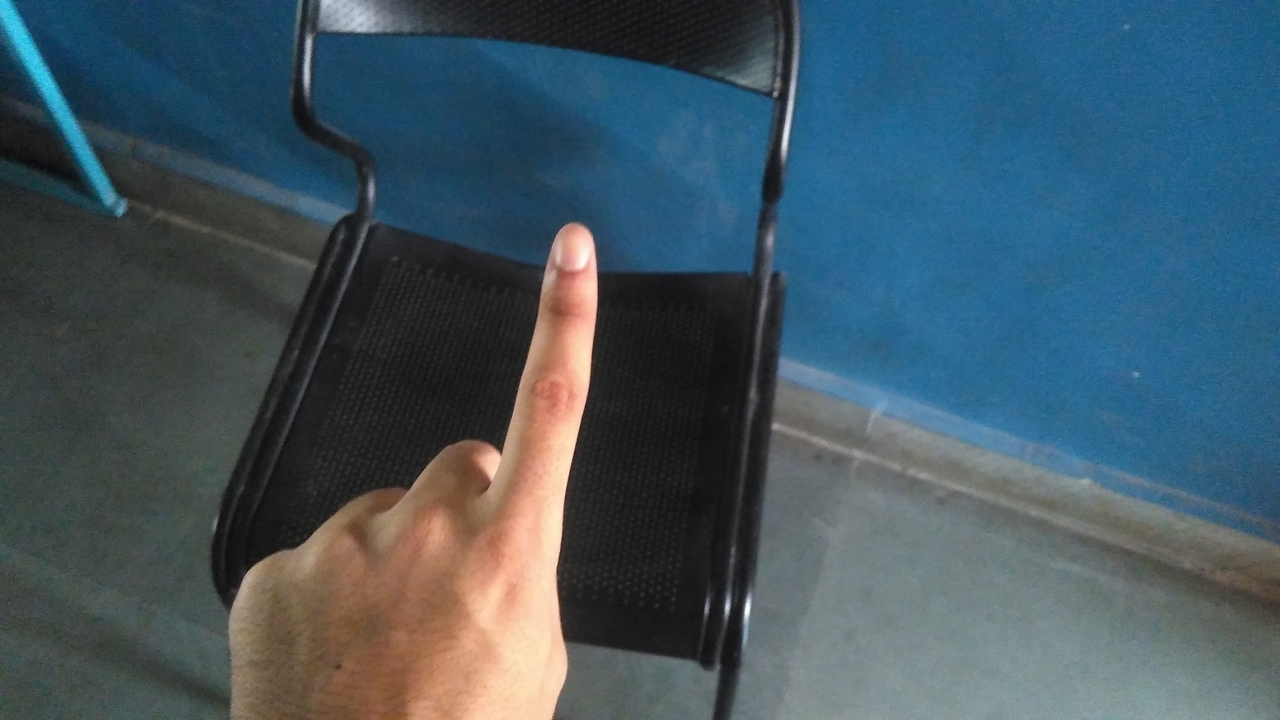fingertip: (538, 214, 602, 282)
